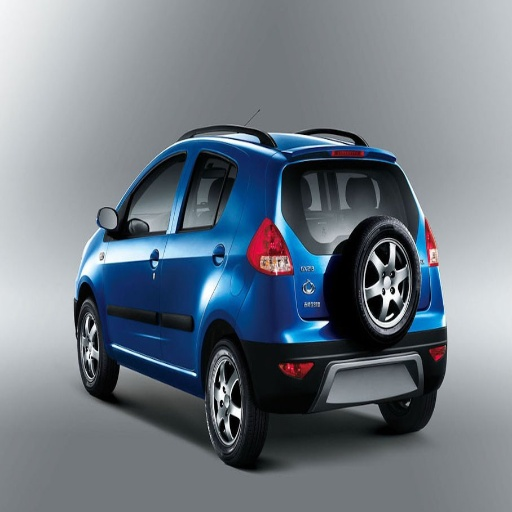back_bumper: (237, 275, 385, 411)
back_left_door: (161, 143, 233, 372)
trunk: (292, 213, 358, 316)
